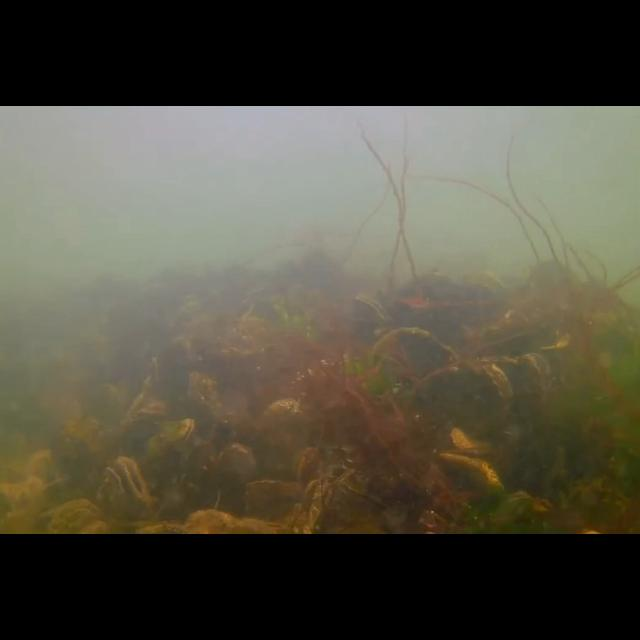Oyster-Closed: (350, 292, 392, 360), (146, 419, 197, 456)
Oyster-Indeterminate: (421, 362, 513, 423), (369, 326, 461, 384), (478, 352, 552, 402), (216, 442, 258, 510), (436, 451, 506, 489), (126, 356, 162, 426), (188, 370, 228, 424), (44, 499, 100, 535), (450, 426, 500, 454), (125, 398, 172, 426), (259, 396, 305, 422)
Oyster-Open: (95, 456, 157, 534), (298, 474, 332, 534)
